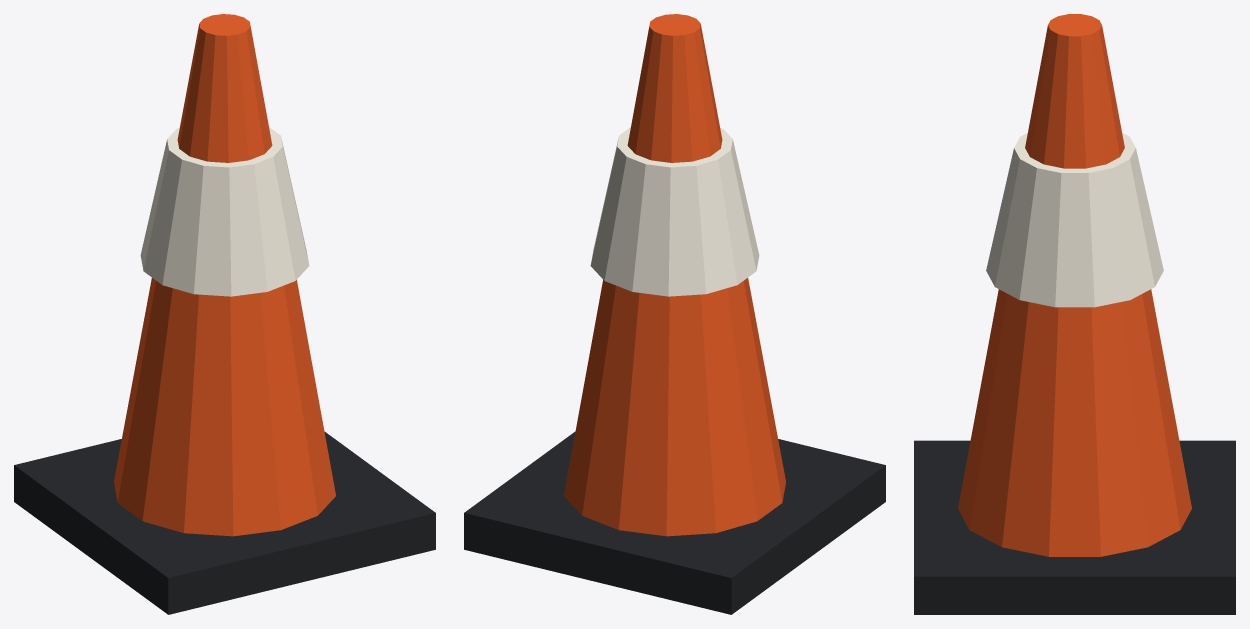
File: traffic_cone.glb
3 renders of one model, left to right at view 1: azimuth 30°, elevation 25°; view 2: azimuth 150°, elevation 25°; view 3: azimuth 270°, elevation 25°, orthographic. The views are drawn at different scales.
Parts seen in each view (by area): view 1: ConeBody, ConeBase, ConeStripe; view 2: ConeBody, ConeBase, ConeStripe; view 3: ConeBody, ConeBase, ConeStripe.
Boxes of the visible parts, x1,y1,x2,y2 form: ConeBody: (114,14,335,536); ConeBase: (14,431,435,614); ConeStripe: (140,127,309,296); ConeBody: (564,14,785,536); ConeBase: (464,431,885,614); ConeStripe: (590,127,759,296); ConeBody: (958,14,1191,556); ConeBase: (914,440,1235,614); ConeStripe: (986,133,1163,307).
Bounding box in the file's own units: 0.38 × 0.68 × 0.38.
